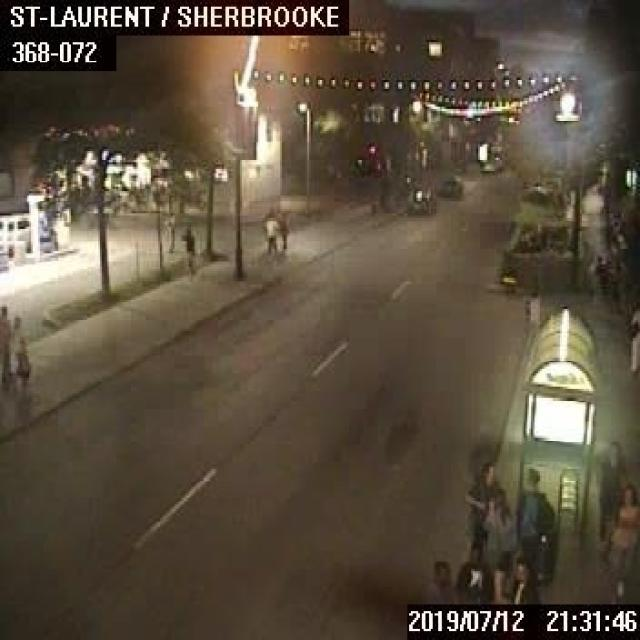pedestrian: (512, 467, 554, 558), (464, 460, 501, 563), (609, 483, 638, 598), (594, 439, 622, 550), (478, 486, 512, 565), (456, 540, 493, 600), (418, 557, 453, 604), (504, 558, 539, 604), (9, 314, 28, 386), (594, 249, 612, 311), (624, 304, 638, 376), (0, 302, 11, 380), (262, 206, 276, 254), (182, 224, 194, 274), (277, 206, 287, 251)
vehicle: (0, 210, 29, 254), (404, 182, 433, 214), (433, 173, 461, 194), (481, 159, 495, 171)
